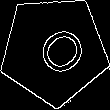O_SW: (22, 18, 86, 83)
